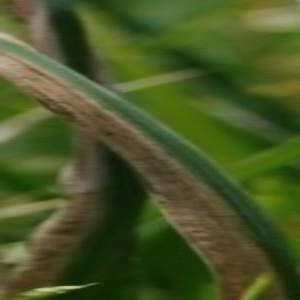Leaf_Blast: (130, 125, 286, 298)
